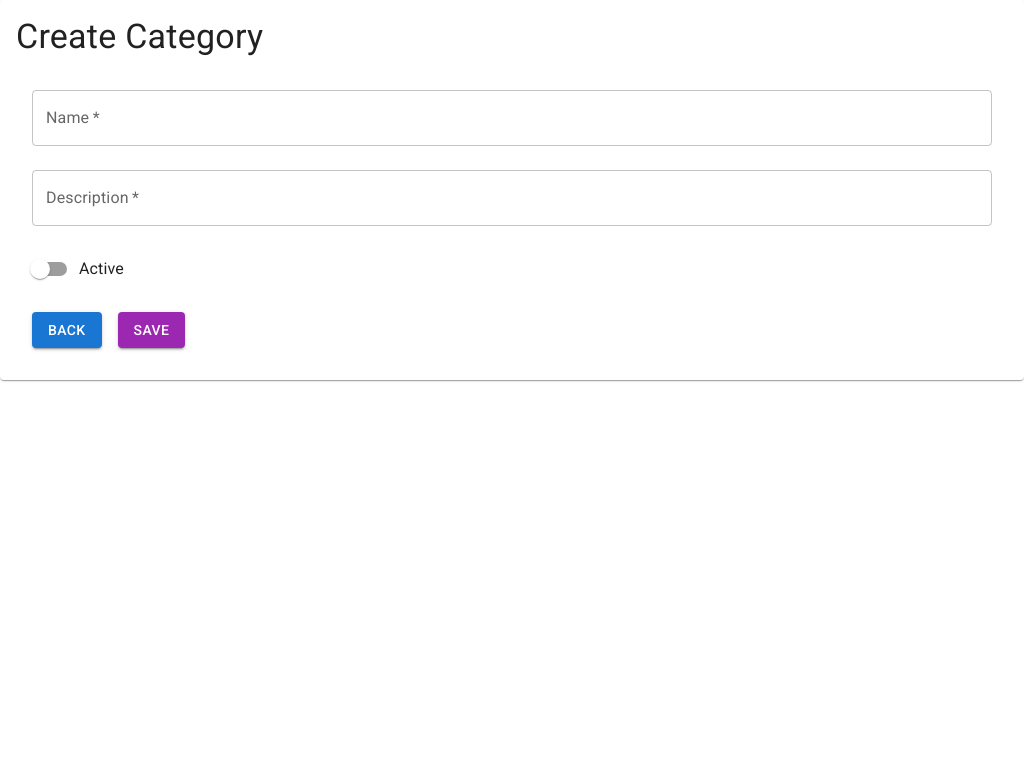
Test: Test CreateCategory page › should handle submit
Type "Test Name" into the field with test id "name-input" at (512, 118), box left=32, top=90, right=992, bottom=146
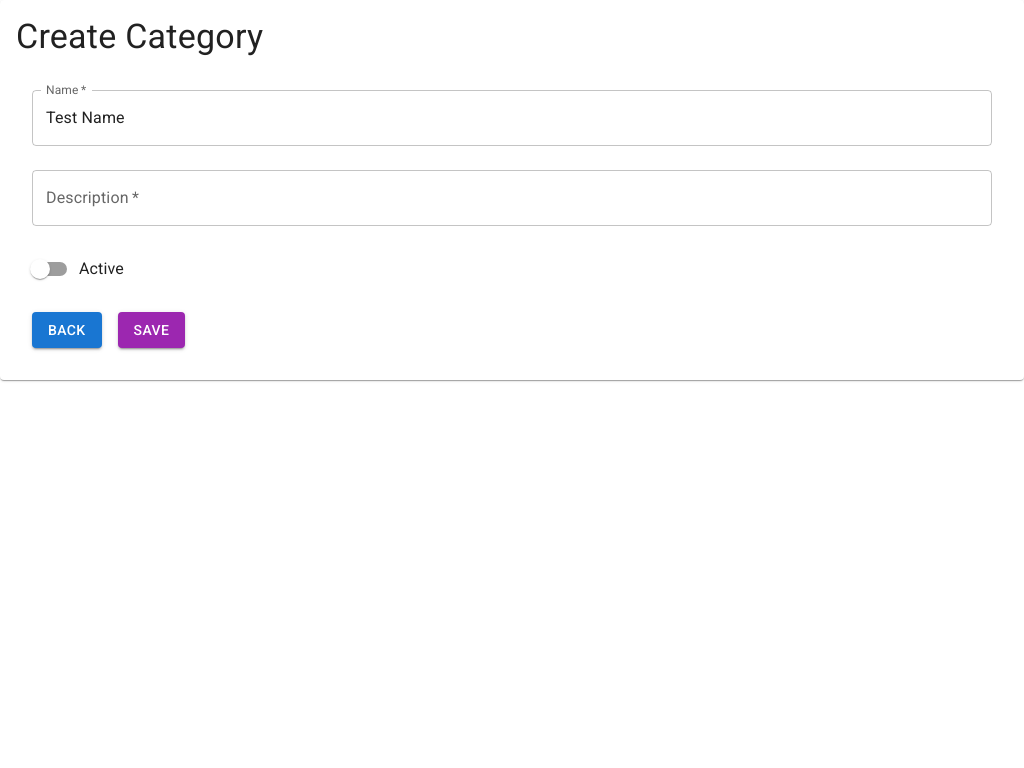
Type "Test Description" into the field with test id "description-input" at (512, 198), box left=32, top=170, right=992, bottom=226
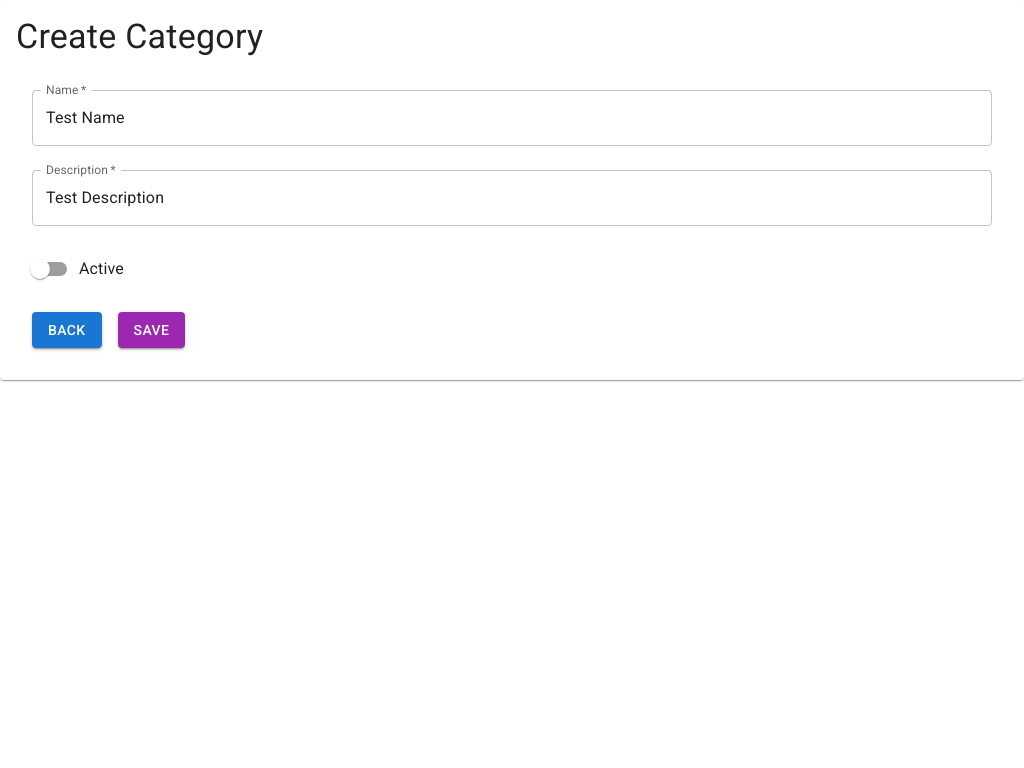
Click the element with test id "is-active-input" at (40, 269), box left=30, top=259, right=50, bottom=279
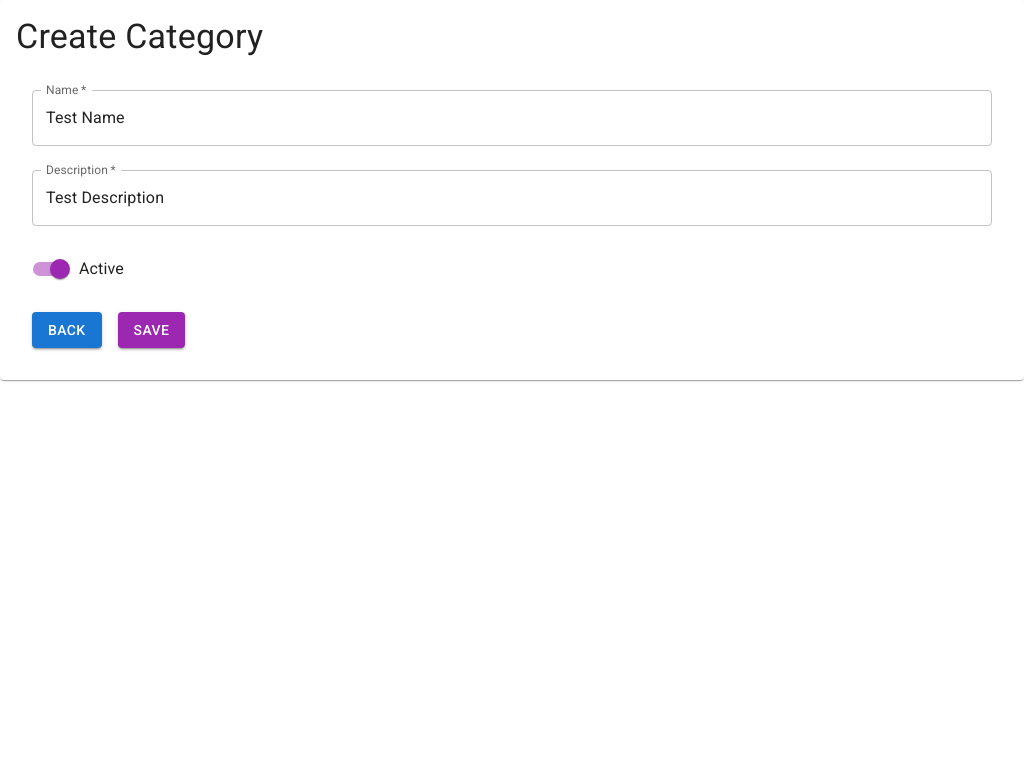
Click the button "Save" at (152, 330), box left=118, top=312, right=185, bottom=348
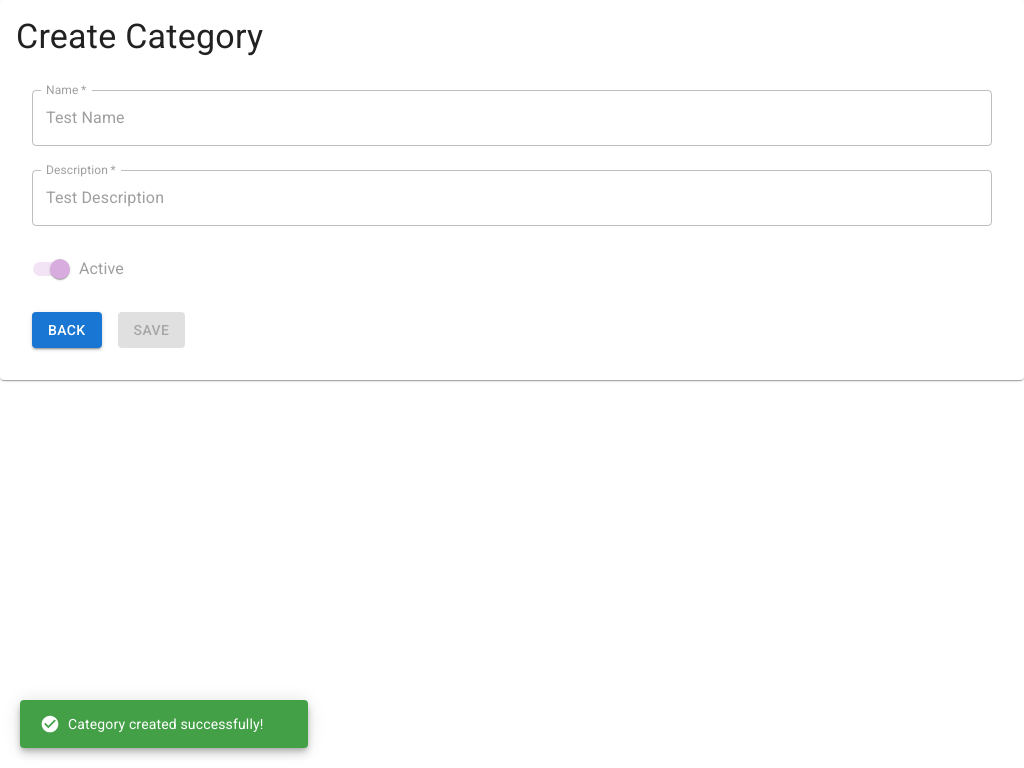
Expected: the text "Category created successfully!" is shown, left=40, top=714, right=264, bottom=734
